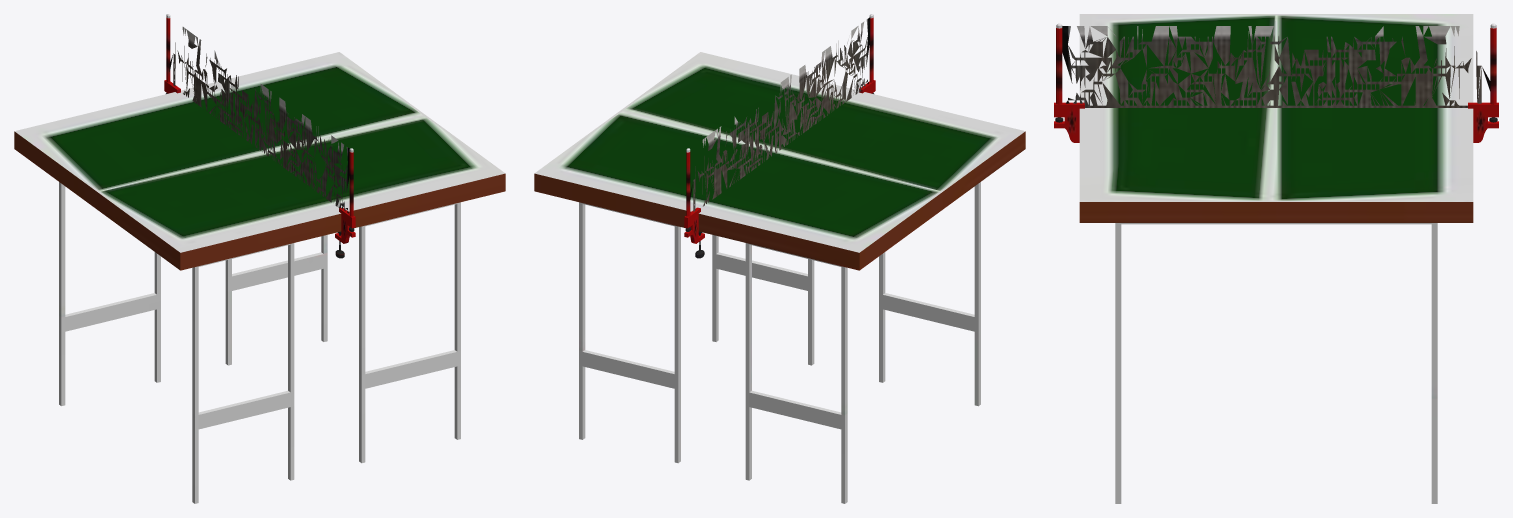
File: sh-bsby-table-tennis.glb
3 renders of one model, left to right at view 1: azimuth 30°, elevation 25°; view 2: azimuth 150°, elevation 25°; view 3: azimuth 270°, elevation 25°, orthographic. The views are drawn at different scales.
Visible parts, largest first — view 1: Circle_Circle.001; view 2: Circle_Circle.001; view 3: Circle_Circle.001.
Boxes of the visible parts, x1=… form: Circle_Circle.001: x1=14, y1=14, x2=505, y2=503; Circle_Circle.001: x1=534, y1=14, x2=1025, y2=503; Circle_Circle.001: x1=1054, y1=14, x2=1498, y2=503.
Size of the model in its own units: 1 by 1 by 1.
1 material, 1 textured.
